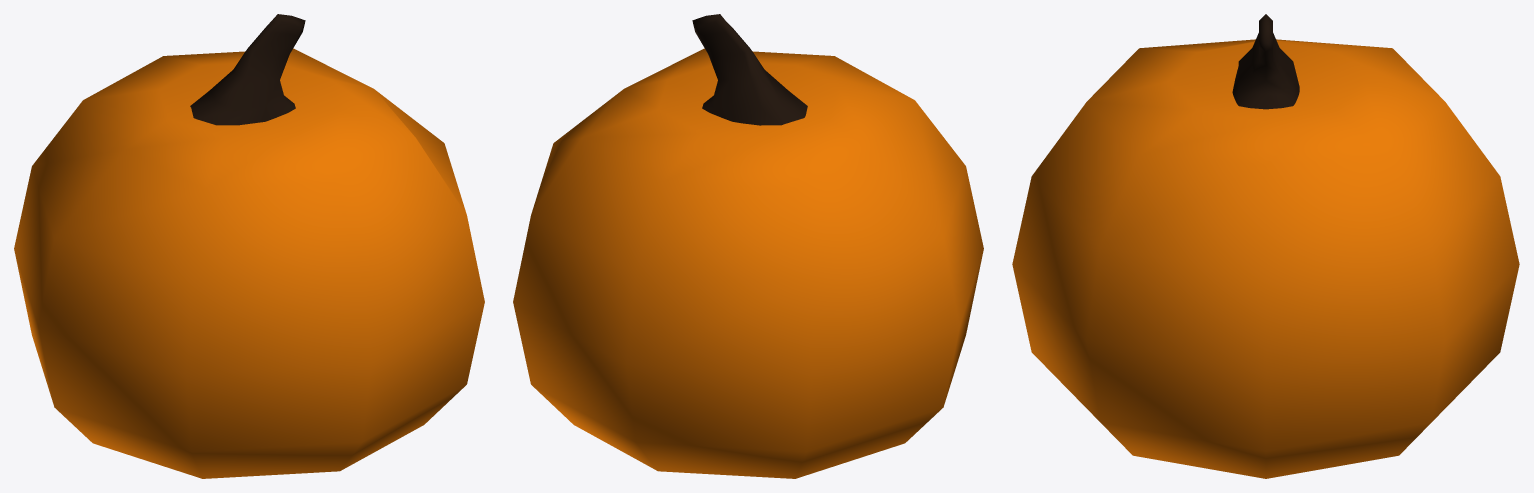
File: Pumpkin.fbx
3 views of the same model, side by side, from view 1: azimuth 30°, elevation 25°; view 2: azimuth 150°, elevation 25°; view 3: azimuth 270°, elevation 25° (orthographic). The views are drawn at different scales.
Parts seen in each view (by area): view 1: Pumpkin; view 2: Pumpkin; view 3: Pumpkin.
Boxes of the visible parts, x1,y1,x2,y2 form: Pumpkin: (14, 14, 484, 478); Pumpkin: (513, 14, 983, 478); Pumpkin: (1012, 14, 1519, 478).
Size of the model in its own units: 24.36 by 23.23 by 24.36.
